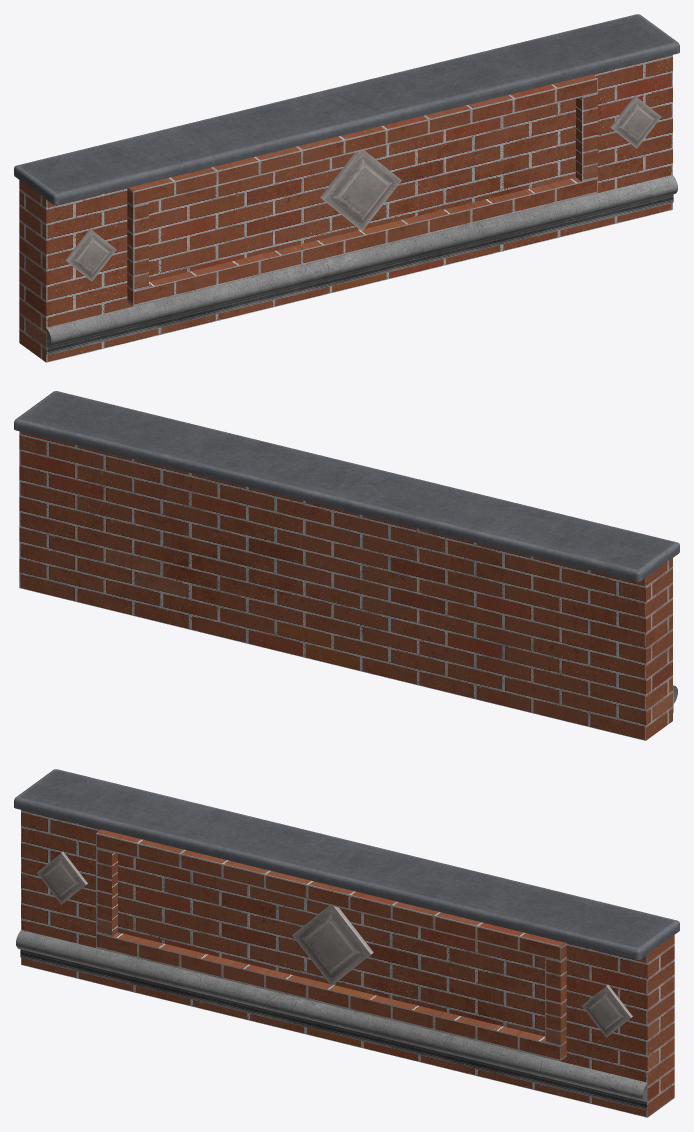
File: House_05_Parapet_03.fbx
The picture shows the model from 3 angles, top to bottom: view 1: azimuth 30°, elevation 25°; view 2: azimuth 150°, elevation 25°; view 3: azimuth 330°, elevation 25°; orthographic projection.
Visible parts, largest first — view 1: House_05_Parapet_03; view 2: House_05_Parapet_03; view 3: House_05_Parapet_03.
Boxes of the visible parts, x1=… form: House_05_Parapet_03: x1=14, y1=14, x2=679, y2=362; House_05_Parapet_03: x1=14, y1=391, x2=679, y2=740; House_05_Parapet_03: x1=14, y1=769, x2=679, y2=1117.
Bounding box in the file's own units: 400 × 106 × 46.44.
